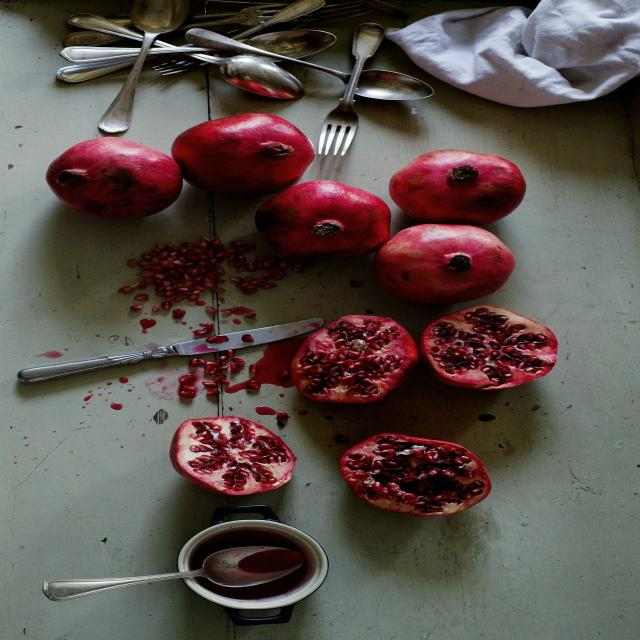pomegranate: (38, 130, 186, 224), (337, 433, 493, 520), (420, 306, 569, 394), (288, 311, 419, 408), (369, 224, 525, 303), (168, 413, 306, 501), (175, 114, 322, 195), (392, 149, 546, 222), (256, 180, 388, 265)
